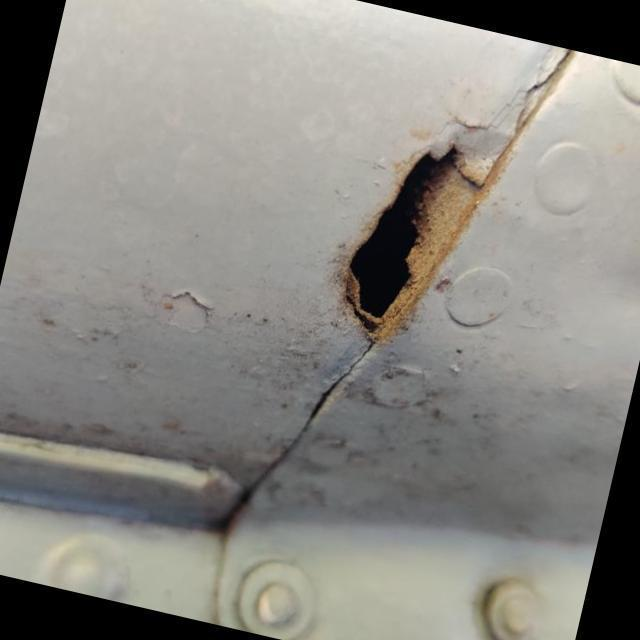Rupture: (294, 91, 532, 384)
